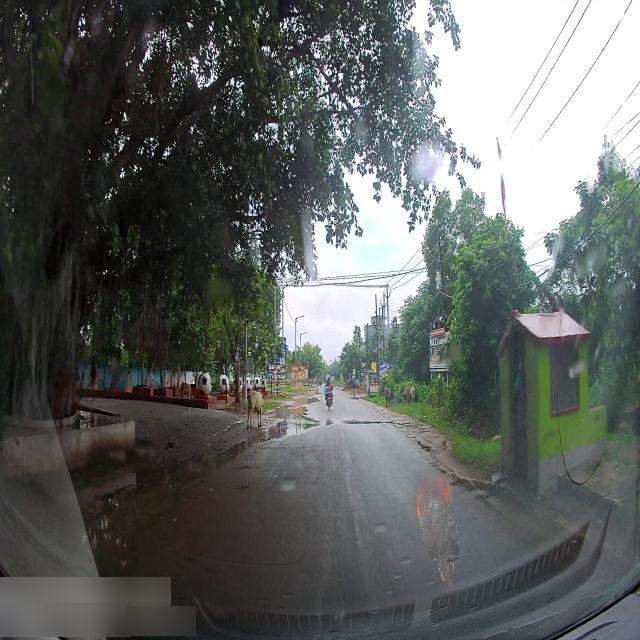pothole: (133, 460, 214, 504), (240, 420, 318, 442), (451, 469, 506, 500), (211, 443, 255, 471), (264, 406, 328, 418), (408, 432, 441, 453), (326, 420, 411, 428), (292, 392, 322, 404)
